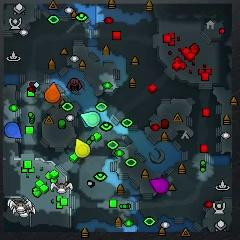p1: (4, 122, 22, 139)
p2: (80, 111, 100, 127)
p3: (149, 177, 169, 195)
p4: (75, 138, 90, 158)
p5: (45, 82, 61, 103)
